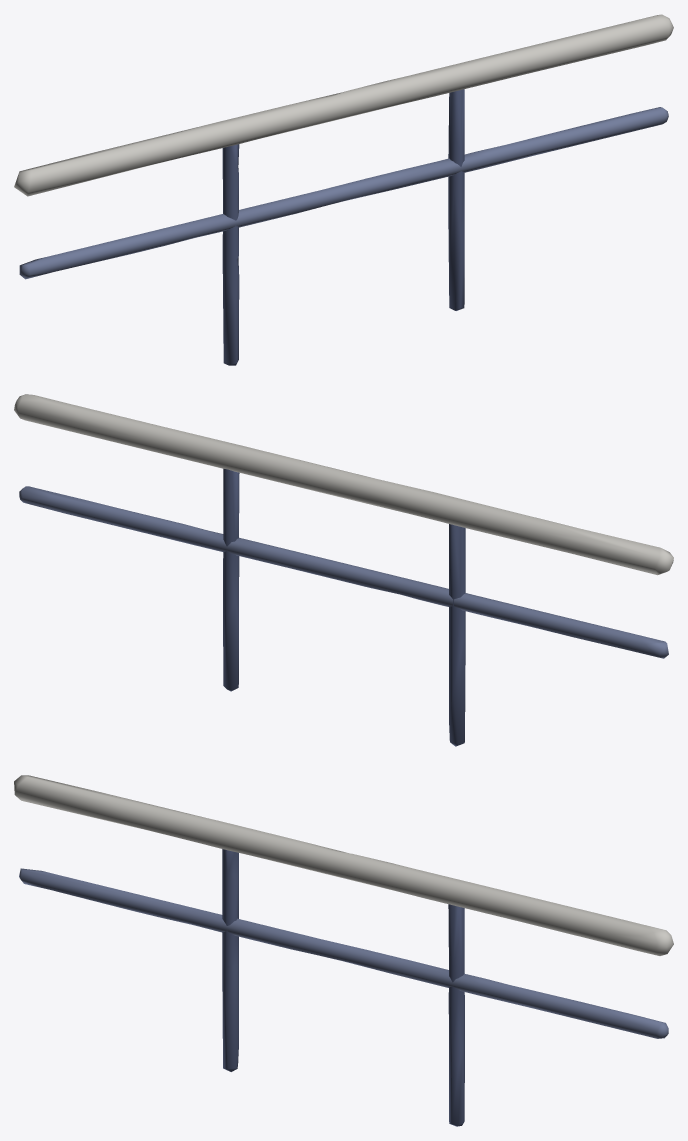
Rendered from rail.glb.
3 renders of one model, top to bottom at view 1: azimuth 30°, elevation 25°; view 2: azimuth 150°, elevation 25°; view 3: azimuth 330°, elevation 25°, orthographic.
Parts seen in each view (by area): view 1: rail; view 2: rail; view 3: rail.
Part boxes in pixels (bbox=[...]): rail: bbox=[14, 14, 673, 365]; rail: bbox=[14, 394, 673, 746]; rail: bbox=[14, 775, 673, 1126].
Size of the model in its own units: 2.03 by 0.7303 by 0.0724.
